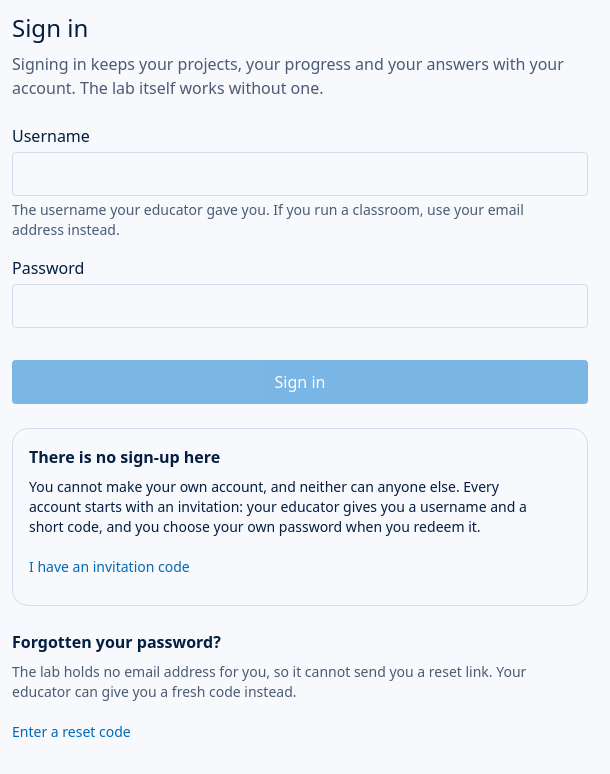
it: sign-in (FR-024, R16) › names a deactivated account rather than blaming her password (FR-054)
Type "learner-1" into the field labelled "Username". click: {"x": 300, "y": 174}
box: [12,152,588,196]
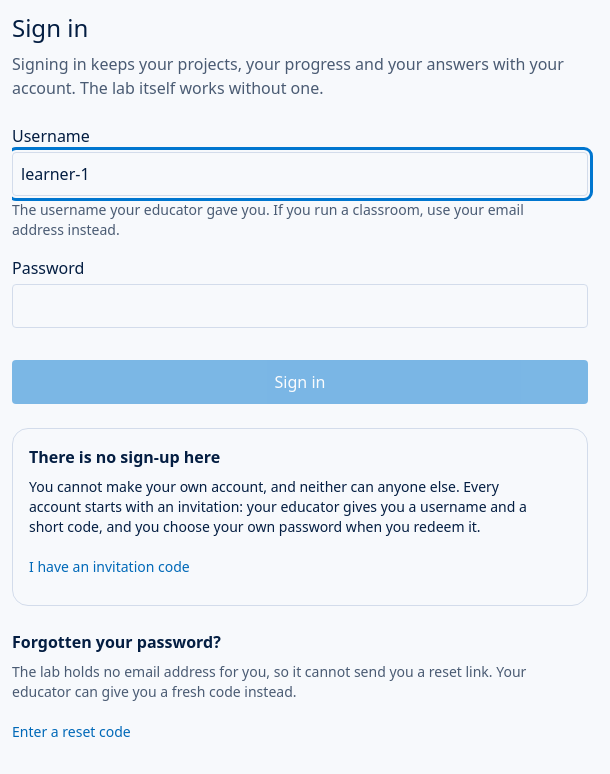
Type "a-good-password" into the password field labelled "Password". click: {"x": 300, "y": 306}
box: [12,284,588,328]
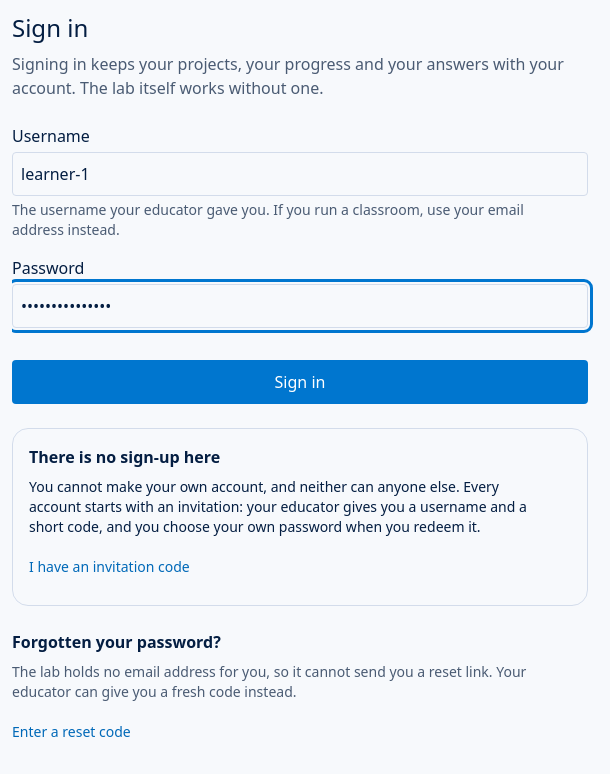
Click the button "Sign in". click: {"x": 300, "y": 382}
box: [12,360,588,404]
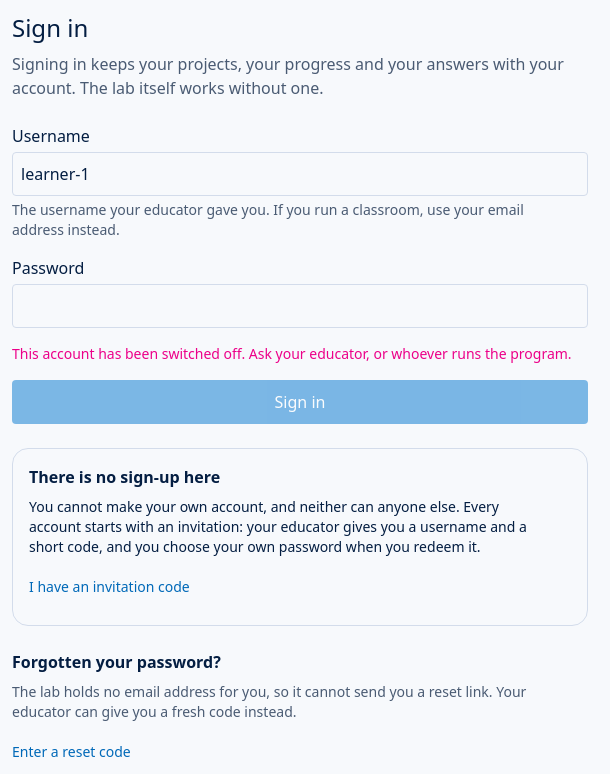
Result: the text "switched off" is shown at [12,344,572,363]
